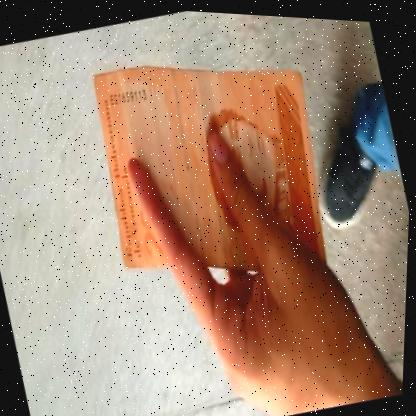twenty-front-vef: (77, 25, 348, 311)
